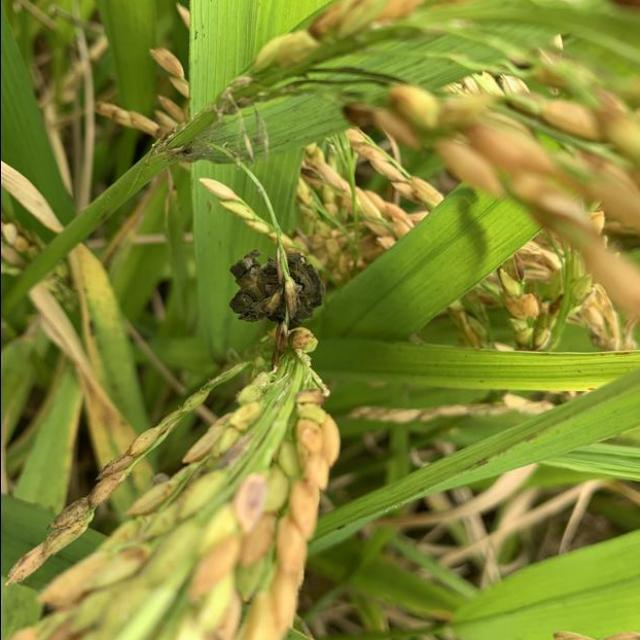Leaf_Scald: (228, 246, 324, 332)
